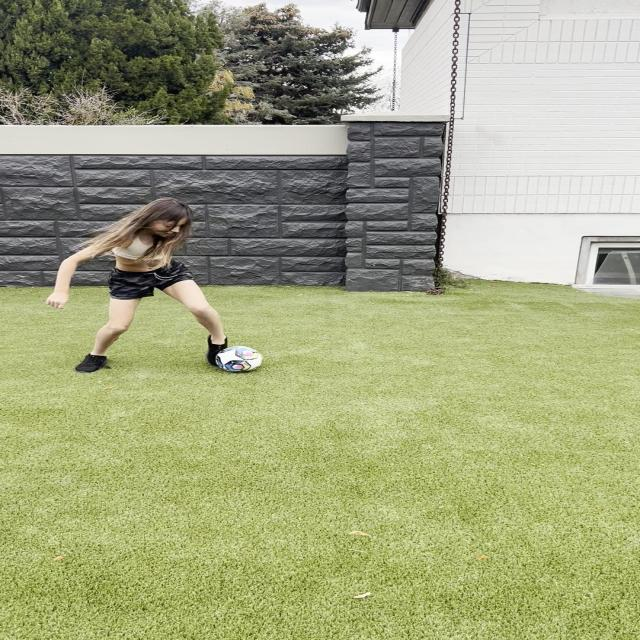Soccer Ball: (214, 346, 262, 372)
